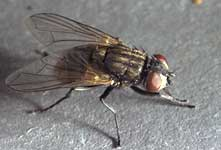fly: (7, 12, 199, 150)
